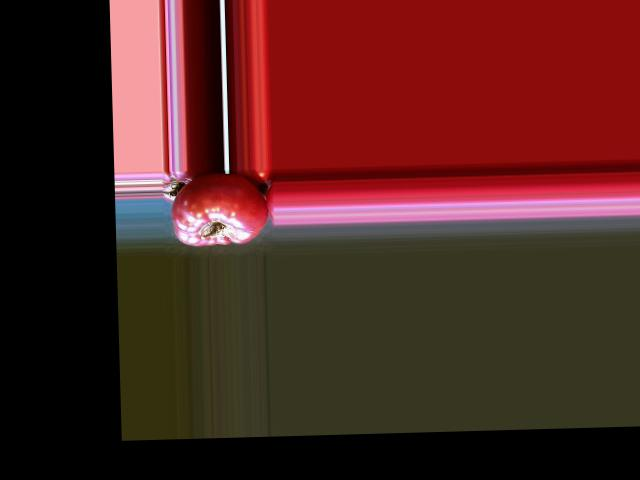tomato: (170, 171, 270, 246)
